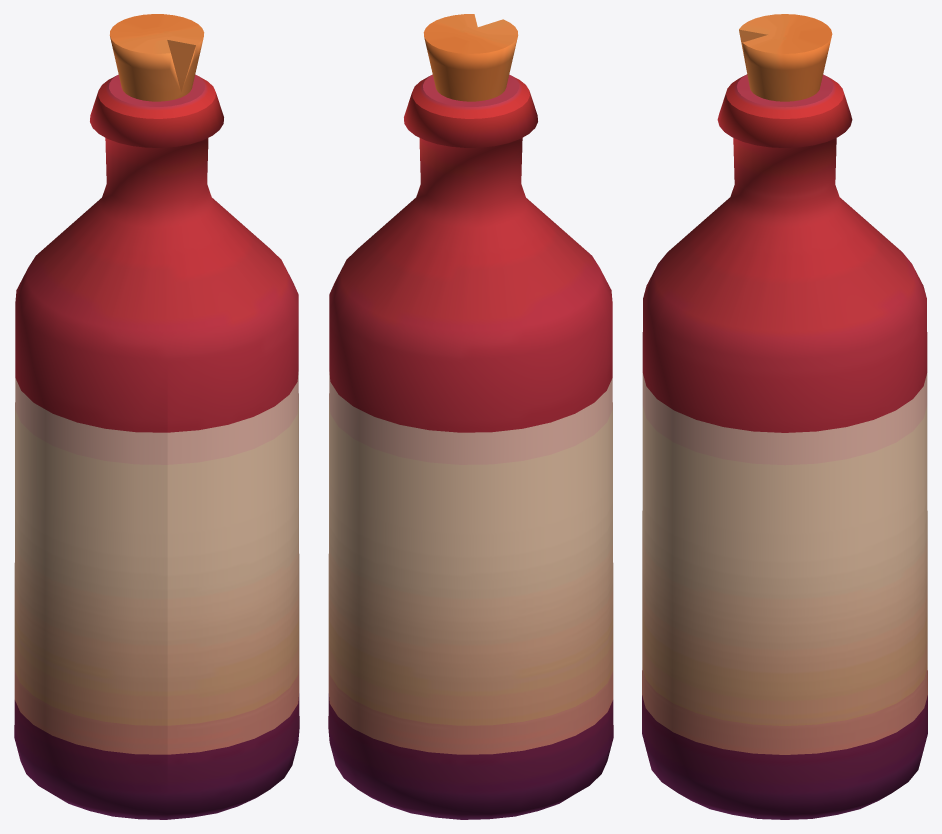
The model's file is bottle.fbx.
3 renders of one model, left to right at view 1: azimuth 30°, elevation 25°; view 2: azimuth 150°, elevation 25°; view 3: azimuth 270°, elevation 25°, orthographic.
Visible parts, largest first — view 1: bottle_0; view 2: bottle_0; view 3: bottle_0.
Boxes of the visible parts, x1,y1,x2,y2 form: bottle_0: (14,14,299,819); bottle_0: (328,14,613,819); bottle_0: (642,14,927,819).
Size of the model in its own units: 1.92 by 5.46 by 1.92.
Materials: 1 (1 with a texture image).
